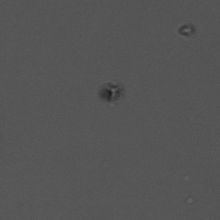Dead Cell: (97, 77, 128, 106)
